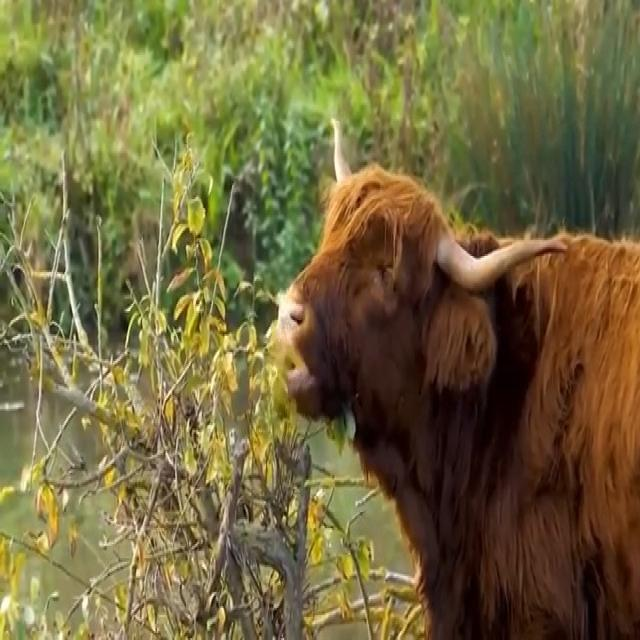cow: (274, 167, 640, 638)
